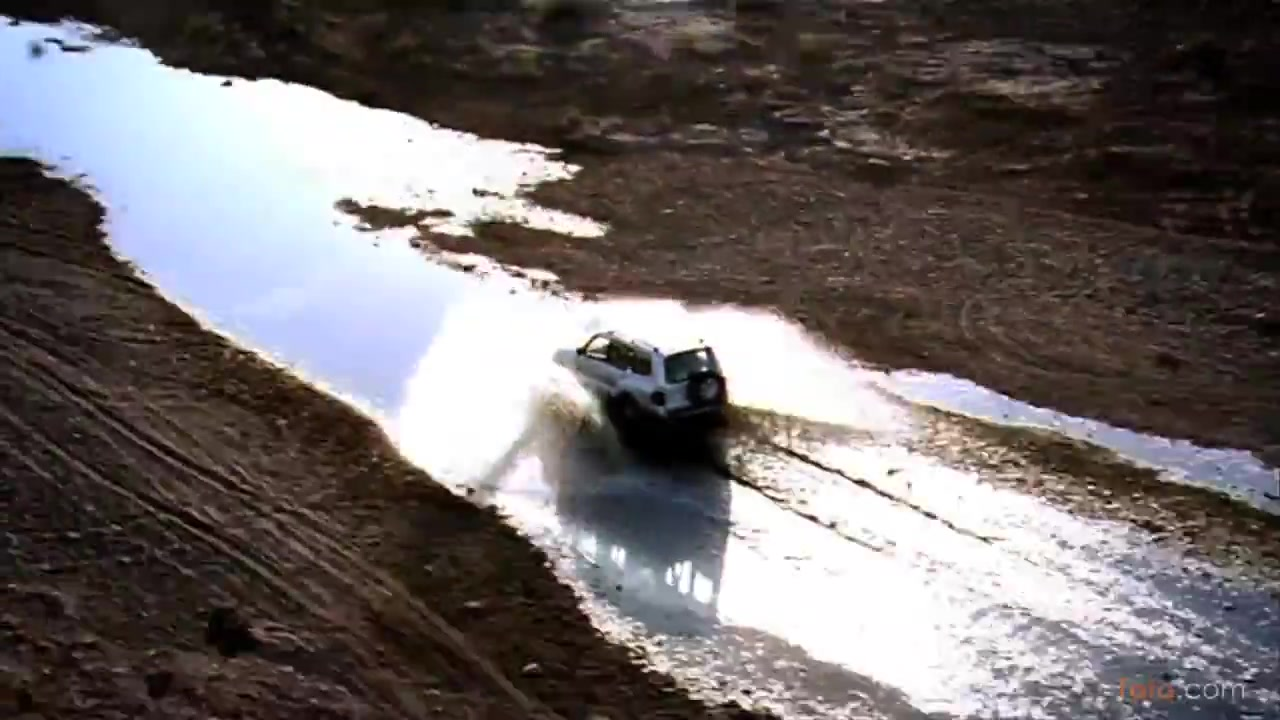car: (556, 324, 733, 438)
